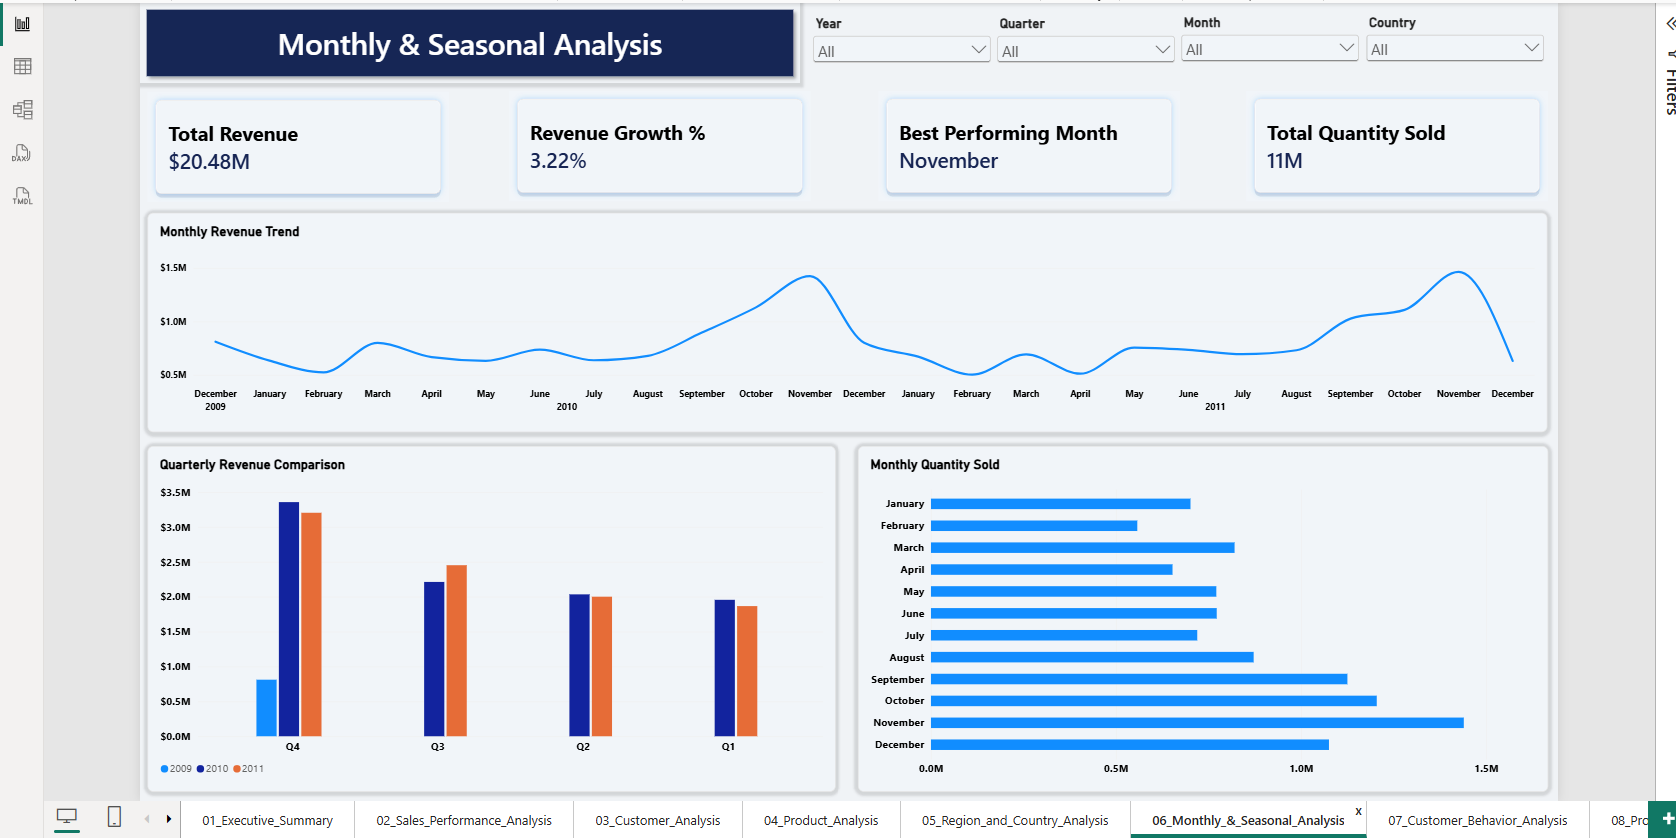

This screenshot's page, from the dashboard's own definition file:
{"tool":"powerbi","page":{"name":"06_Monthly_&_Seasonal_Analysis","canvas":[1920,1080],"ordinal":5},"visuals":[{"type":"shape","box":[0,0,893.5,108.1],"z":0},{"type":"slicer","fields":{"Values":["Date.Quarter"]},"box":[1156.3,18,249.7,74.3],"z":1000},{"type":"slicer","fields":{"Values":["Date.Year"]},"box":[907.2,17.4,249.7,74.3],"z":2000},{"type":"slicer","fields":{"Values":["Sales.Country"]},"box":[1656.3,15.8,249.7,74.3],"z":3000},{"type":"slicer","fields":{"Values":["Date.Month"]},"box":[1405.6,16.5,249.7,74.3],"z":4000},{"type":"lineChart","title":"Monthly Revenue Trend","fields":{"Category":["Date.Year","Date.Month"],"Y":["KPI Measures.Total Revenue"]},"box":[10.8,283.4,1895.8,297.2],"z":5000},{"type":"cardVisual","fields":{"Data":["KPI Measures.Total Revenue"]},"box":[10.8,120.1,408.1,149.4],"z":6000},{"type":"cardVisual","fields":{"Data":["KPI Measures.Total Quantity Sold"]},"box":[1498.4,118.6,408.1,149.4],"z":7000},{"type":"cardVisual","fields":{"Data":["KPI Measures.Best Performing Month"]},"box":[999,118.6,408.1,149.4],"z":8000},{"type":"cardVisual","fields":{"Data":["KPI Measures.Revenue Growth %"]},"box":[499.5,118.6,408.1,149.4],"z":9000},{"type":"clusteredColumnChart","title":"Quarterly Revenue Comparison","fields":{"Category":["Date.Quarter"],"Series":["Date.Year"],"Y":["KPI Measures.Total Revenue"]},"box":[10.8,599.1,931.7,468.2],"z":10000},{"type":"barChart","title":"Monthly Quantity Sold","fields":{"Category":["Date.Month"],"Y":["KPI Measures.Total Quantity Sold"]},"box":[971.8,599.1,934.8,468.2],"z":11000}]}

Visuals, with their boxes on the page's 1920x1080 design canvas (x1, y1, x2, y2). These are canvas units, not pixel positions in the 1676x838 screenshot, which may show the page scaled, cropped or inside an application window:
shape: l=0, t=0, r=894, b=108
slicer - Date.Quarter: l=1156, t=18, r=1406, b=92
slicer - Date.Year: l=907, t=17, r=1157, b=92
slicer - Sales.Country: l=1656, t=16, r=1906, b=90
slicer - Date.Month: l=1406, t=16, r=1655, b=91
"Monthly Revenue Trend" lineChart: l=11, t=283, r=1907, b=581
cardVisual - KPI Measures.Total Revenue: l=11, t=120, r=419, b=270
cardVisual - KPI Measures.Total Quantity Sold: l=1498, t=119, r=1906, b=268
cardVisual - KPI Measures.Best Performing Month: l=999, t=119, r=1407, b=268
cardVisual - KPI Measures.Revenue Growth %: l=500, t=119, r=908, b=268
"Quarterly Revenue Comparison" clusteredColumnChart: l=11, t=599, r=942, b=1067
"Monthly Quantity Sold" barChart: l=972, t=599, r=1907, b=1067
